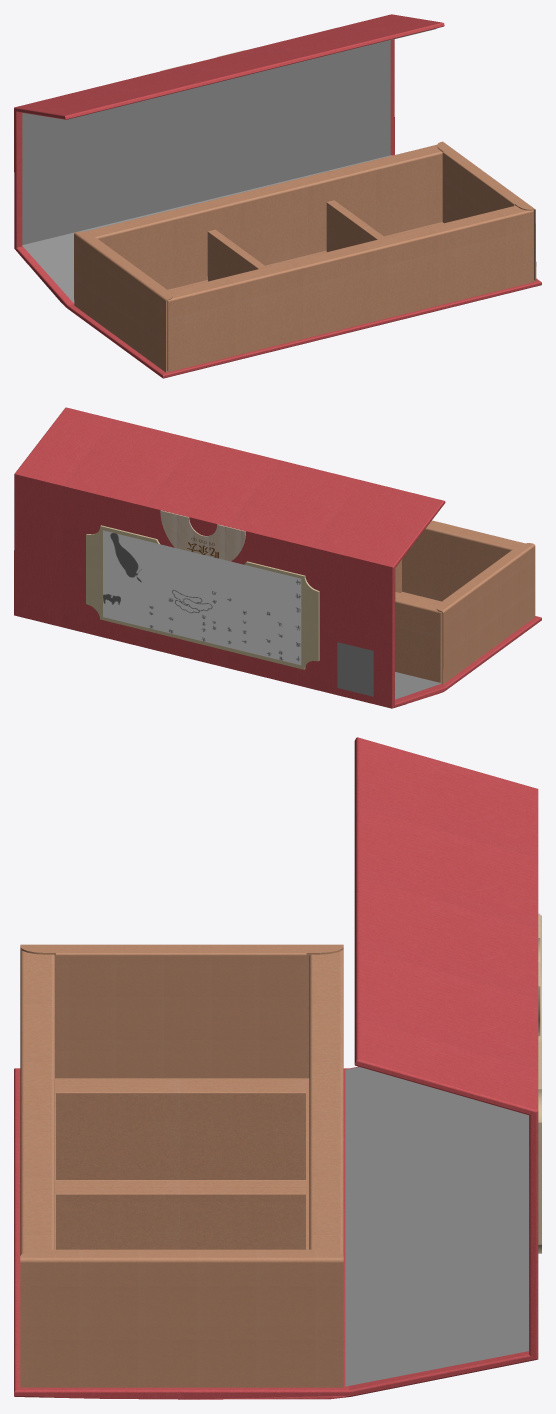
File: CCQ02MD02.obj
3 views of the same model, one above another, from view 1: azimuth 30°, elevation 25°; view 2: azimuth 150°, elevation 25°; view 3: azimuth 270°, elevation 25° (orthographic). The views are drawn at different scales.
Parts seen in each view (by area): view 1: DirectConnectNode_19_DC_Shell, Rectangle006, Rectangle005; view 2: DirectConnectNode_19_DC_Shell, Plane001, Rectangle001, Rectangle005; view 3: DirectConnectNode_19_DC_Shell, Rectangle005.
Boxes of the visible parts, box(x1,y1,x2,y2) form: DirectConnectNode_19_DC_Shell: box(14, 14, 541, 378); Rectangle006: box(22, 40, 390, 244); Rectangle005: box(22, 155, 391, 303); DirectConnectNode_19_DC_Shell: box(14, 407, 541, 708); Plane001: box(103, 530, 301, 665); Rectangle001: box(337, 642, 373, 696); Rectangle005: box(395, 672, 441, 699); DirectConnectNode_19_DC_Shell: box(14, 737, 541, 1399); Rectangle005: box(345, 1067, 528, 1386).
Size of the model in its own units: 422 by 205 by 289.
